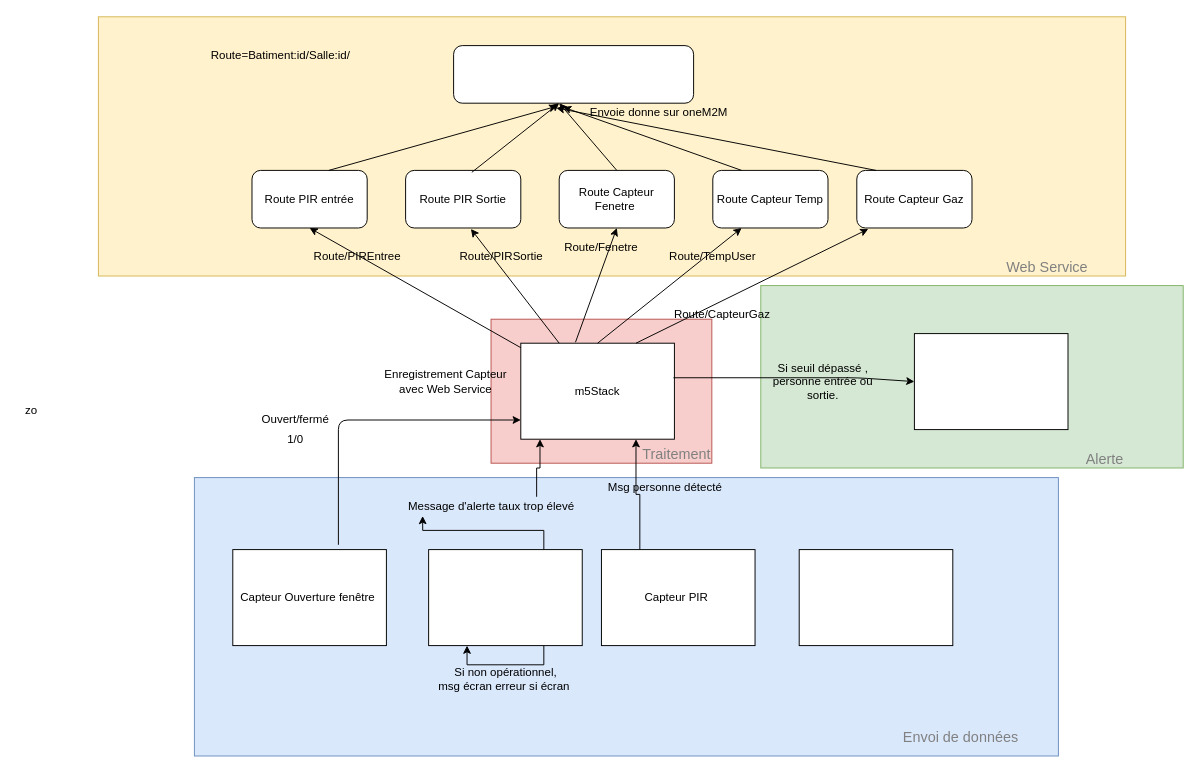
Image size: 1200x773. Some labels were removed from this diagram. The shapes that lost their labels are listed below. From the top down, each one's box as (x1, y1, x2, y2) in pixels, then its label:
(453, 45, 694, 103): onem2m
(913, 333, 1068, 430): Haut parleur
(428, 549, 582, 646): Capteur Gaz
(798, 549, 953, 646): Capteur températuree
